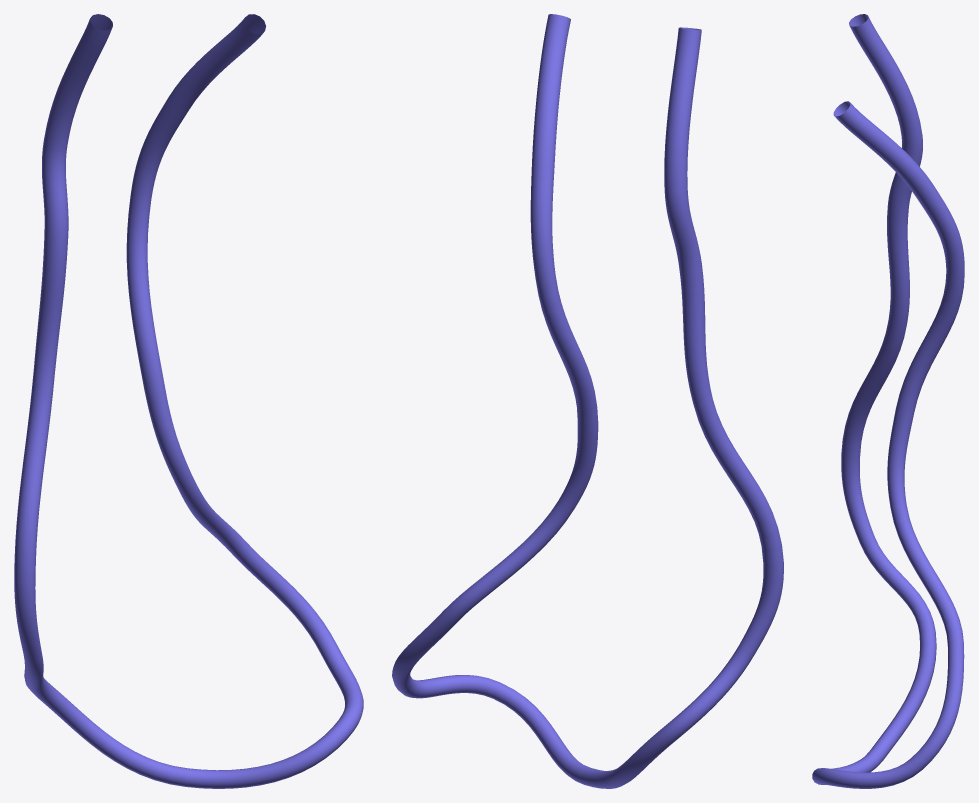
File: Superficial_venous_palmar_arch.r_BezierCurve.371.glb
3 views of the same model, side by side, from view 1: azimuth 30°, elevation 25°; view 2: azimuth 150°, elevation 25°; view 3: azimuth 270°, elevation 25° (orthographic). The views are drawn at different scales.
Visible parts, largest first — view 1: Superficial_venous_palmar_arch.r_BezierCurve.371; view 2: Superficial_venous_palmar_arch.r_BezierCurve.371; view 3: Superficial_venous_palmar_arch.r_BezierCurve.371.
Boxes of the visible parts, x1,y1,x2,y2 form: Superficial_venous_palmar_arch.r_BezierCurve.371: [14, 14, 363, 788]; Superficial_venous_palmar_arch.r_BezierCurve.371: [392, 14, 783, 788]; Superficial_venous_palmar_arch.r_BezierCurve.371: [812, 14, 964, 788].
Size of the model in its own units: 0.0309 by 0.0656 by 0.0128.
